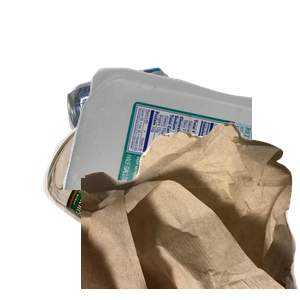glass: (41, 120, 281, 300)
metal: (65, 65, 231, 192)
plastic: (60, 65, 300, 245)
trash: (81, 120, 300, 300)
